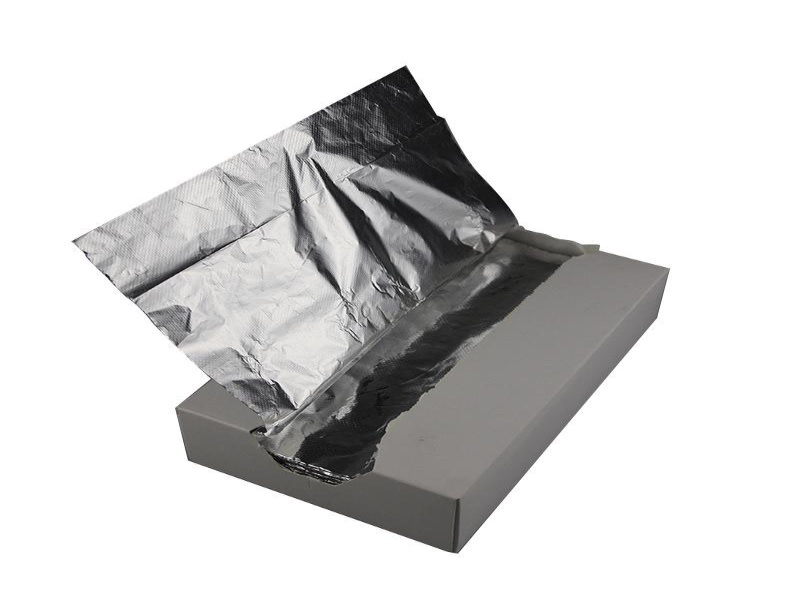Aluminium_Foil: (53, 69, 586, 429)
